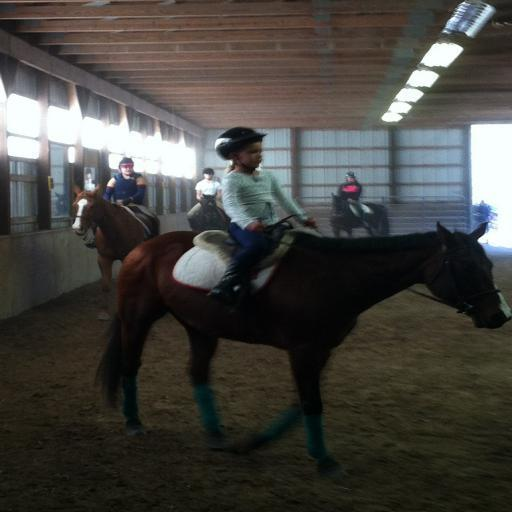horse: (86, 219, 512, 471), (70, 176, 163, 322), (329, 190, 390, 237), (188, 192, 234, 234)
